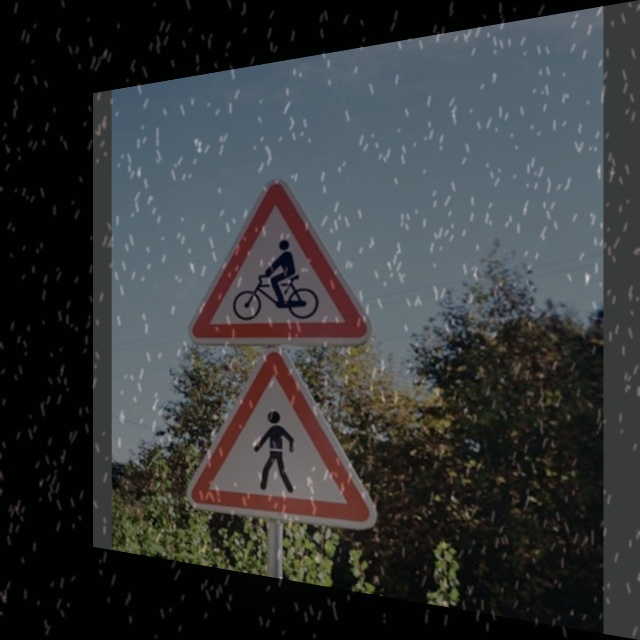Cycle_Crossing: (185, 168, 371, 349)
